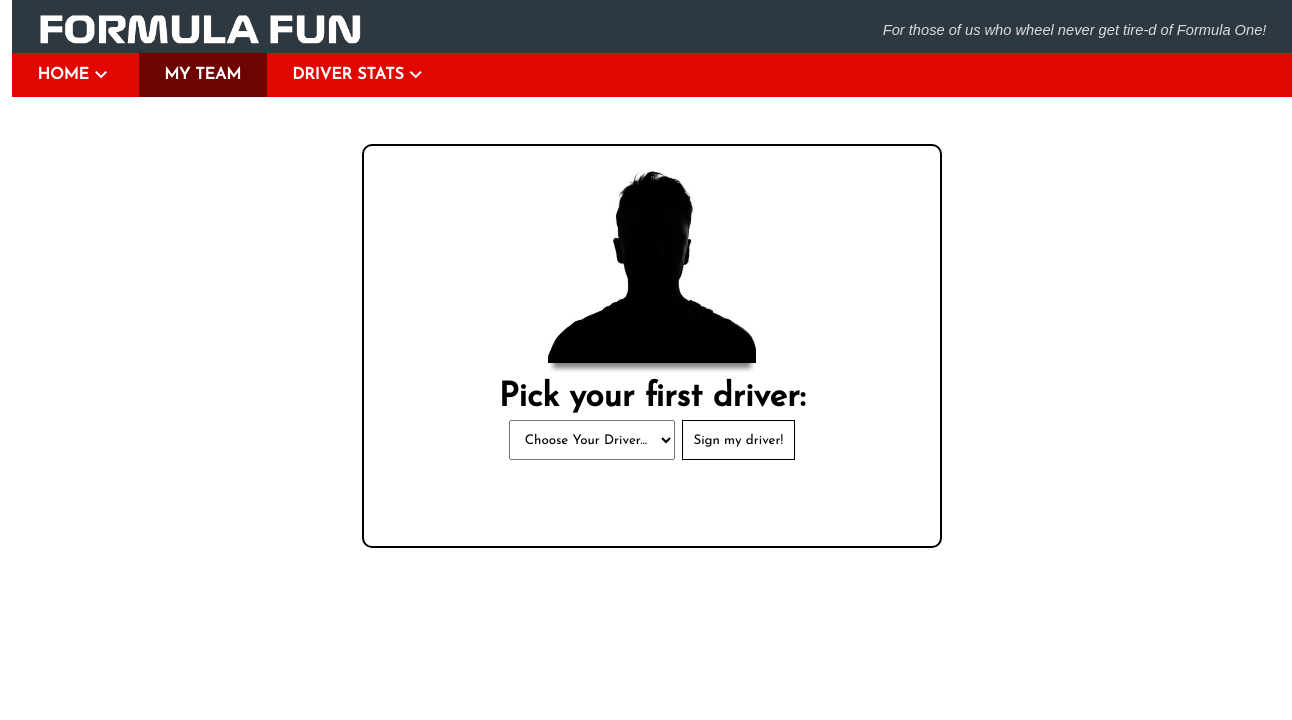
Test case: Chosing Drivers Path › should present an error message in case of a failed fetch
Select "Lewis Hamilton" in the dropdown. click: (592, 440)
box: [509,420,675,460]
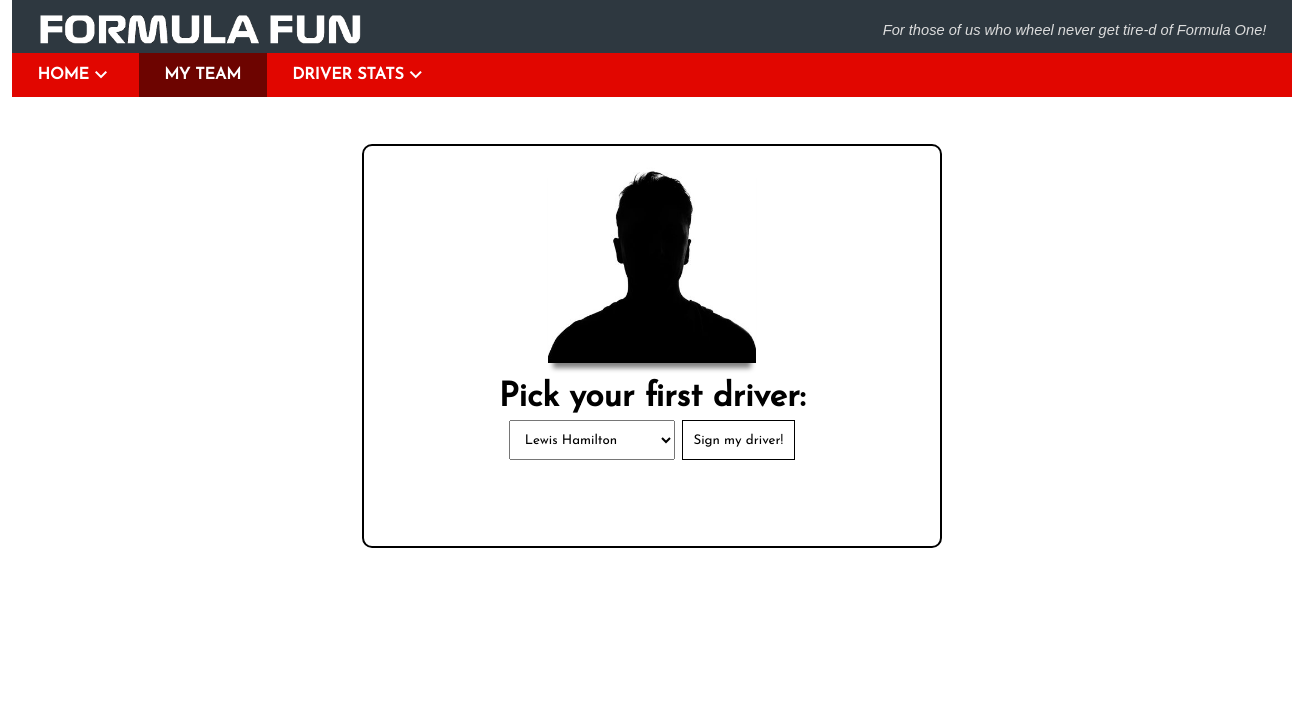
Click the button with class "submit-driver". click: (739, 440)
box: [682,420,795,460]
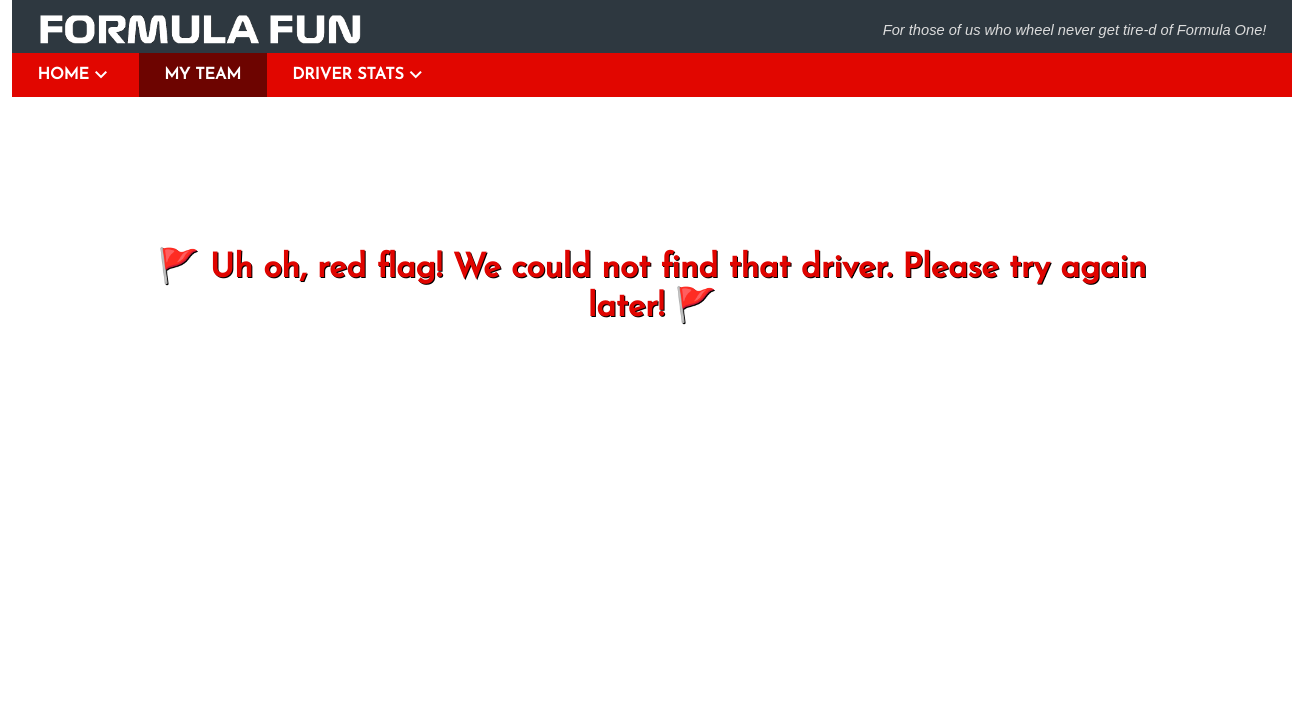
Expected: the element with class "driver-select" is gone
